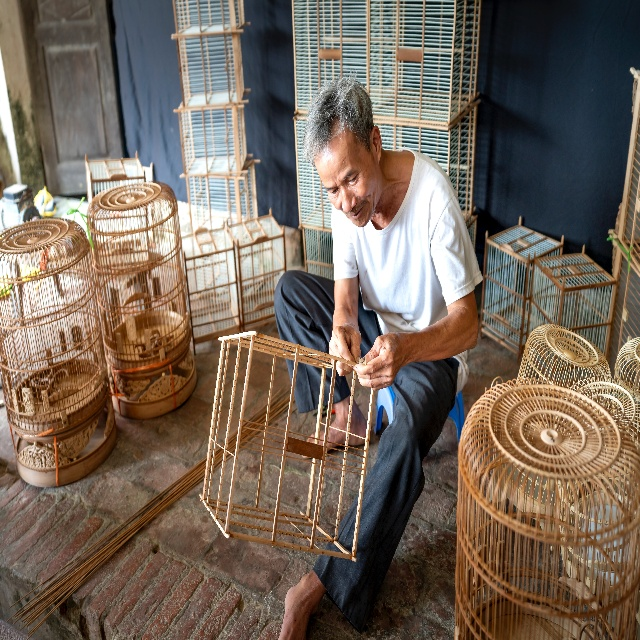Sin_guantes: (355, 331, 404, 391), (328, 322, 362, 377)
